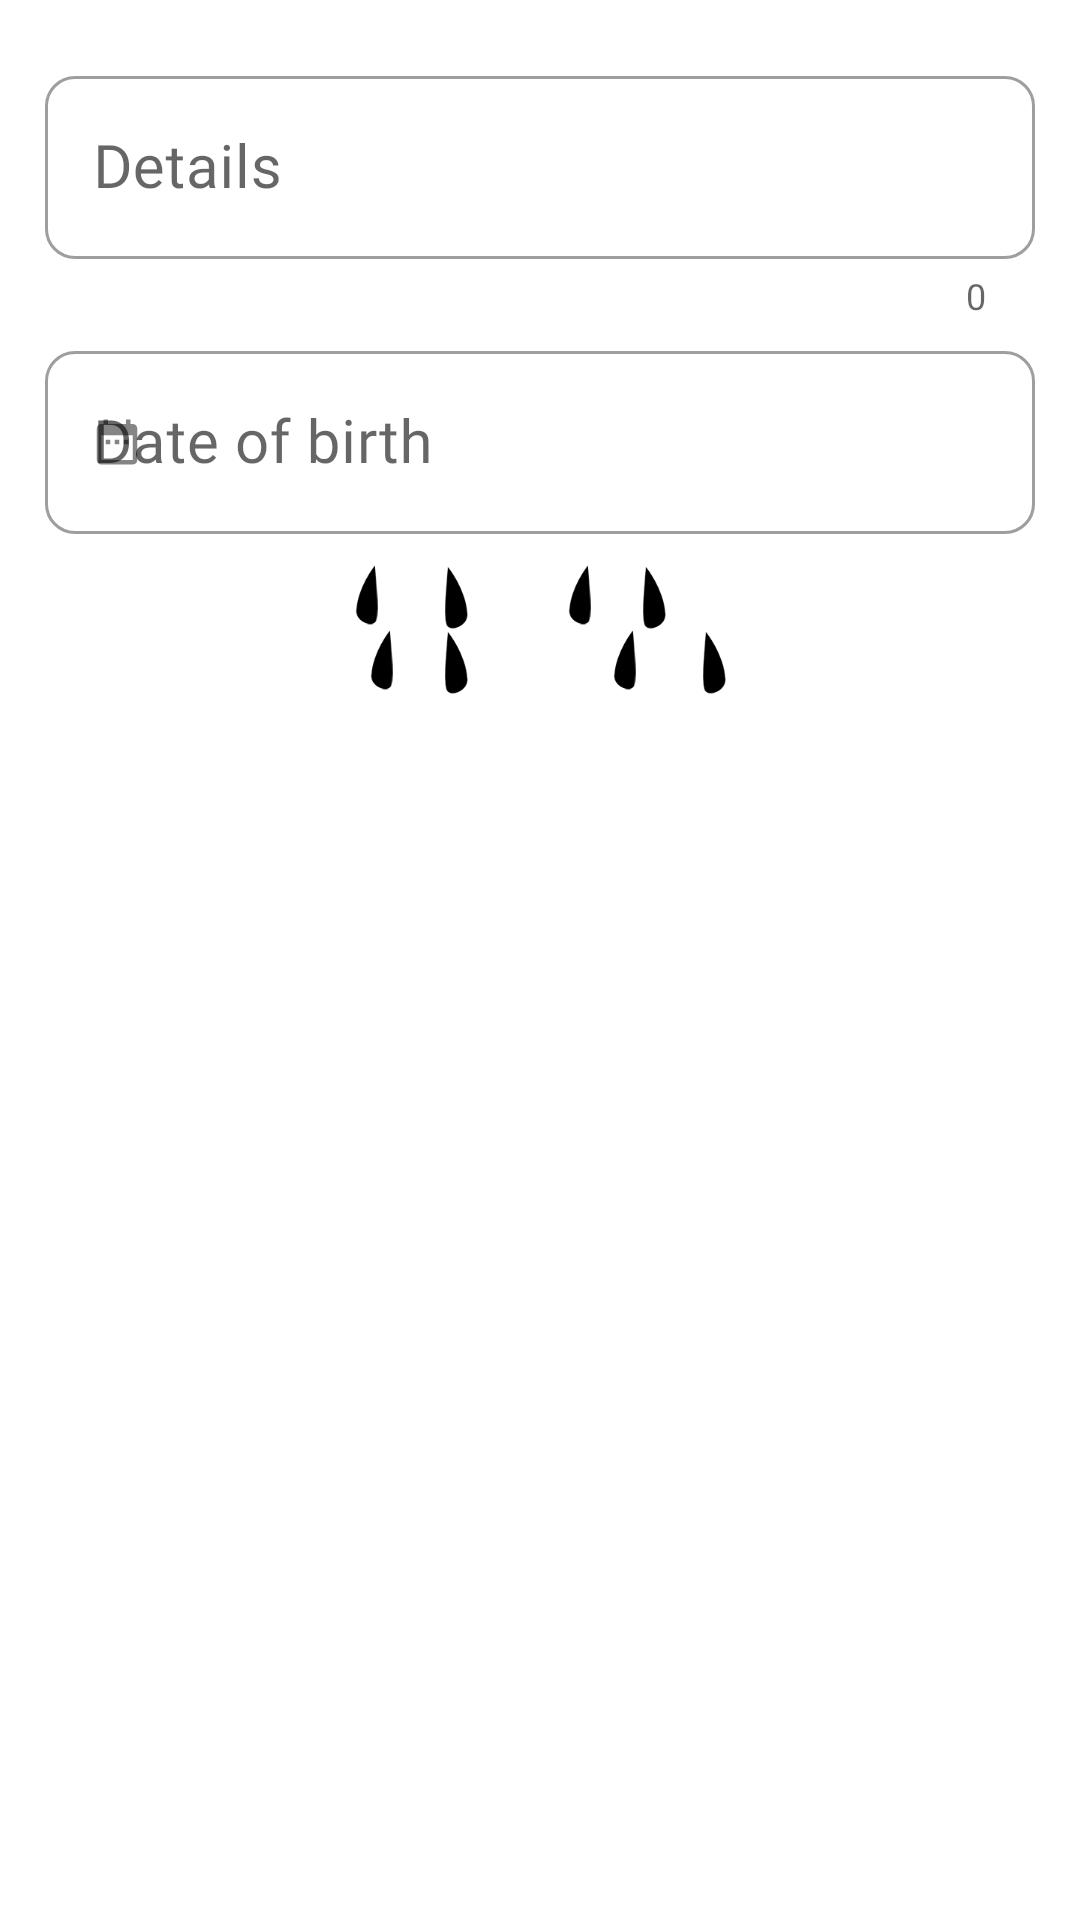

Where icons sit on this 1080 x 1920 app screen, as region(x1, y1, x2, y2):
right nail: region(445, 567, 468, 629), region(643, 567, 666, 629), region(445, 632, 468, 694), region(703, 632, 726, 694)
